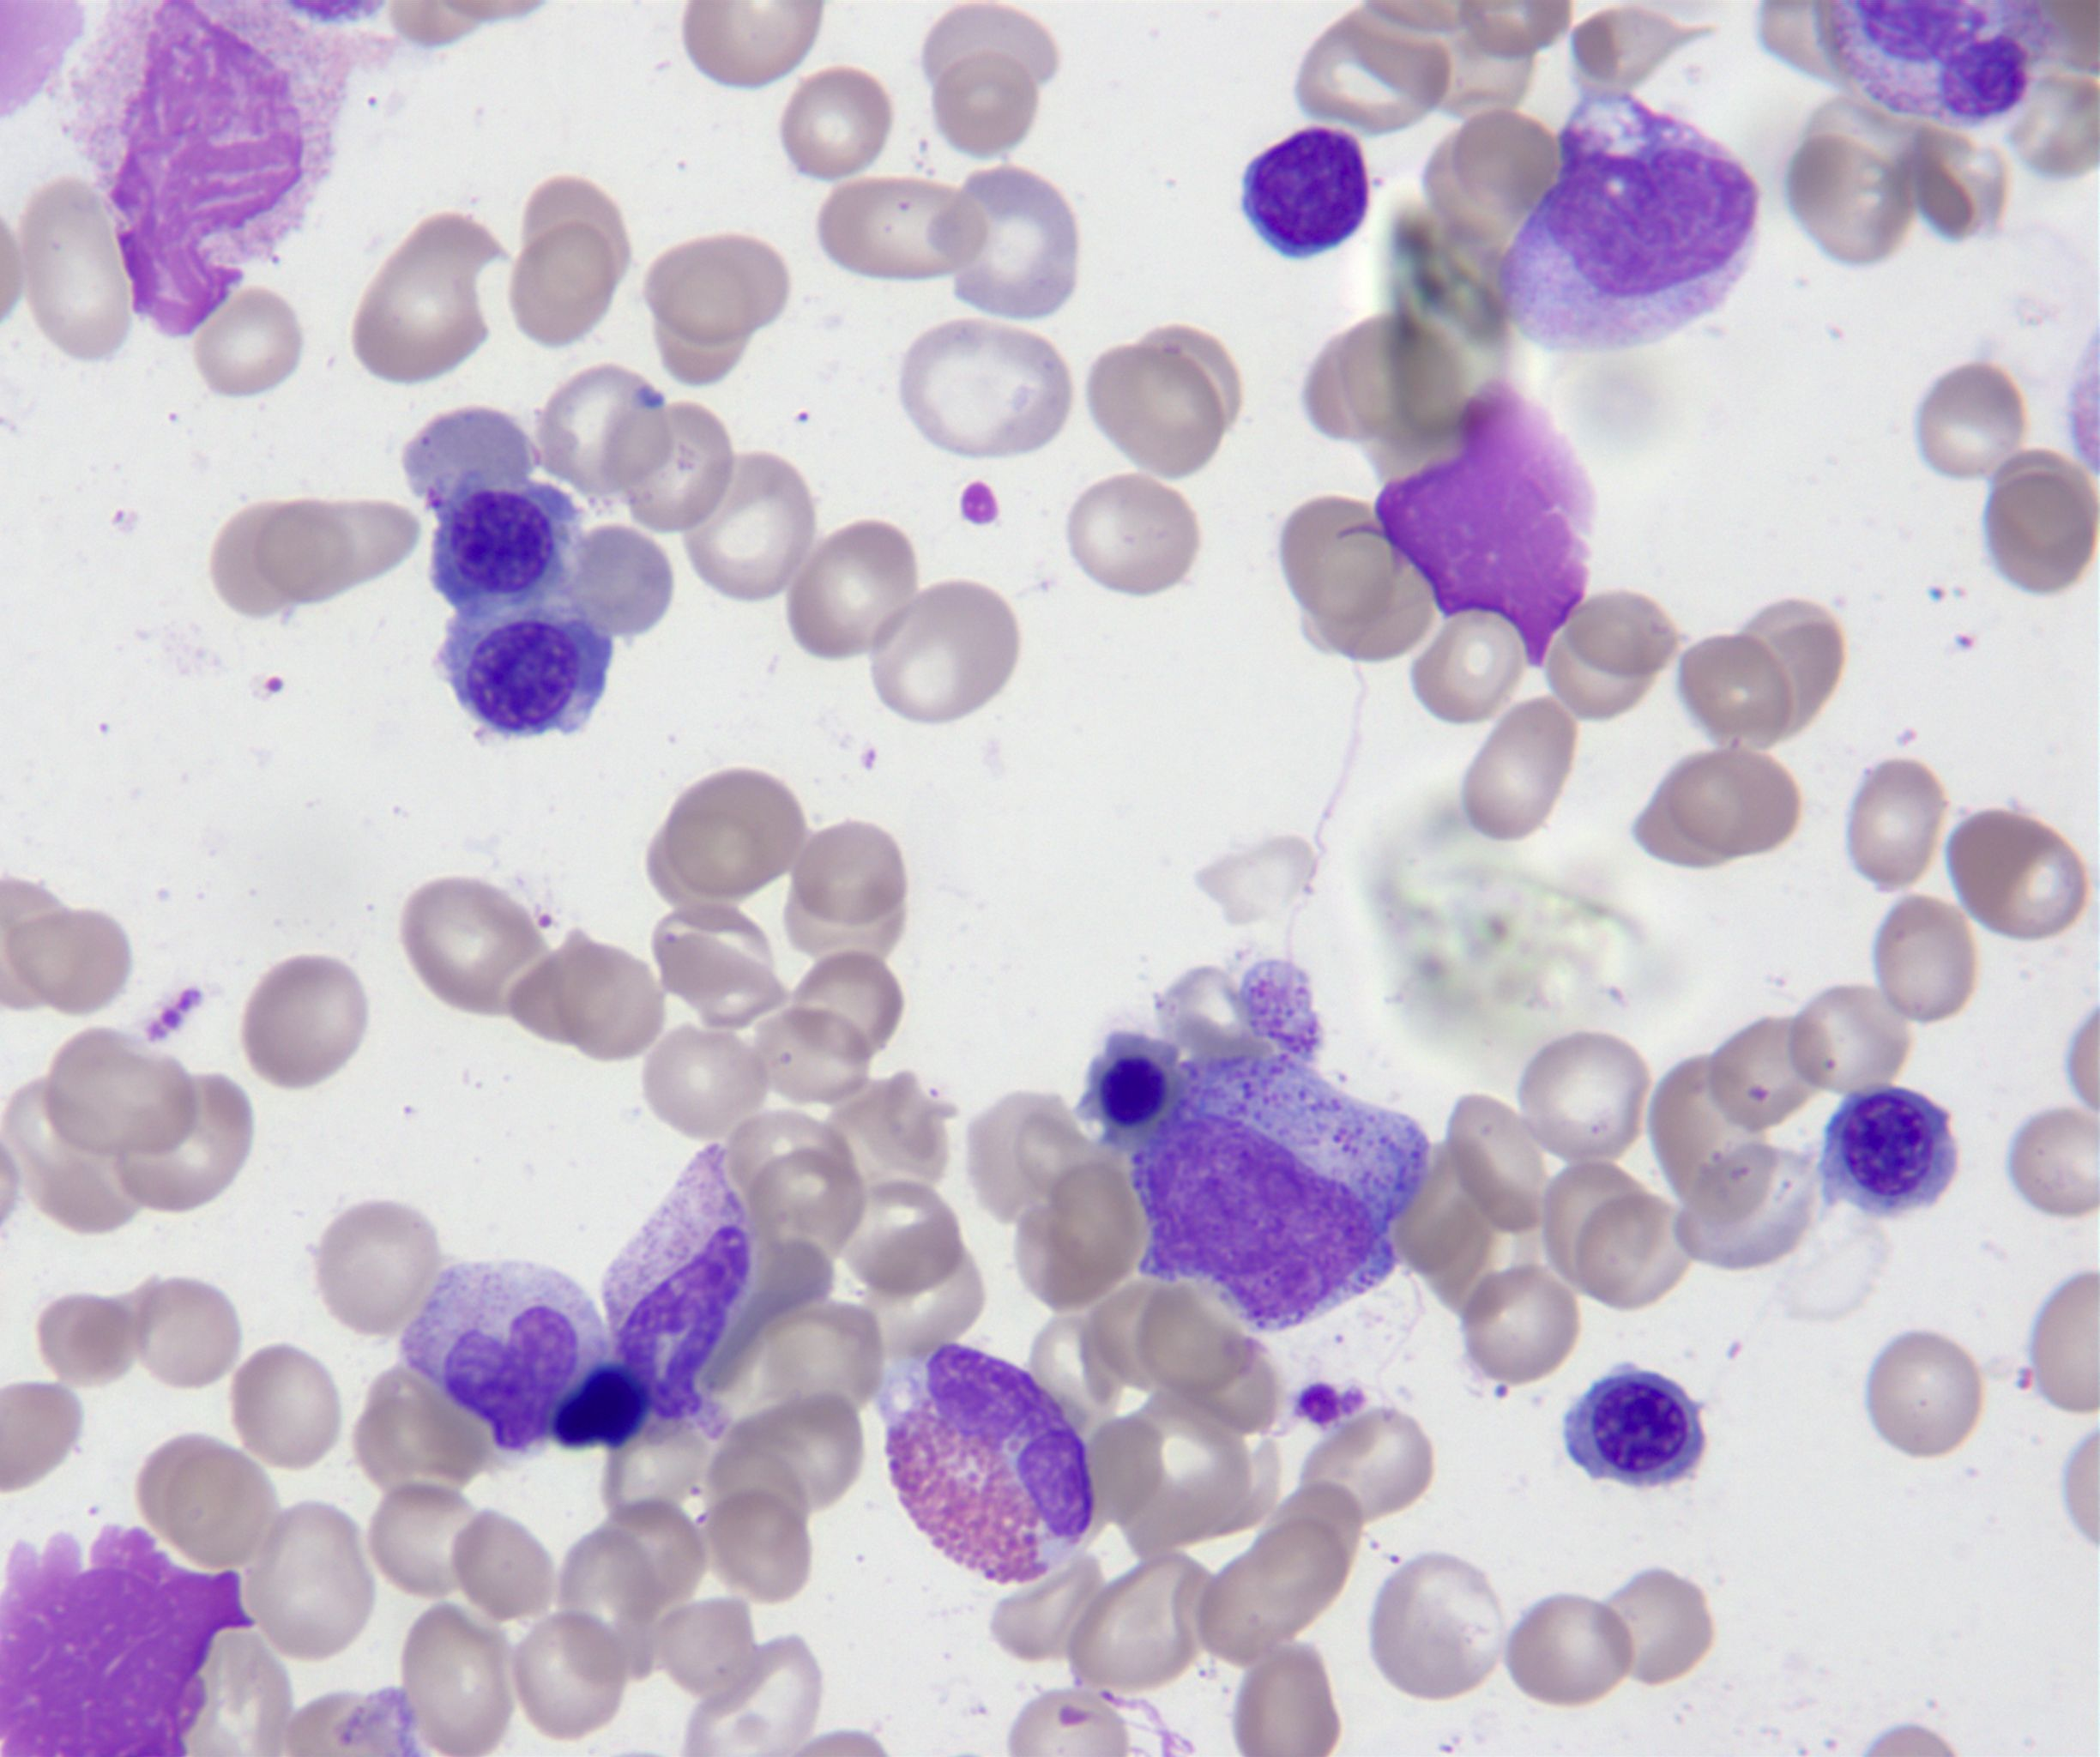24: (436, 602, 614, 738), (429, 469, 579, 611), (1821, 1084, 1957, 1216), (1568, 1368, 1704, 1488), (1074, 1031, 1186, 1148)
3: (1134, 1049, 1427, 1328)
32: (1244, 127, 1364, 260)
42: (1495, 92, 1758, 352)
6: (602, 1141, 748, 1446), (403, 1263, 603, 1455)
E4: (884, 1343, 1094, 1586)
x: (52, 2, 396, 337), (1374, 387, 1596, 665), (2, 1521, 256, 1757), (1817, 2, 2065, 124), (551, 1366, 652, 1452)
